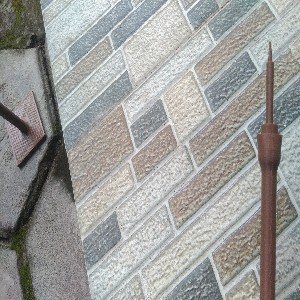solder: (255, 39, 283, 300)
